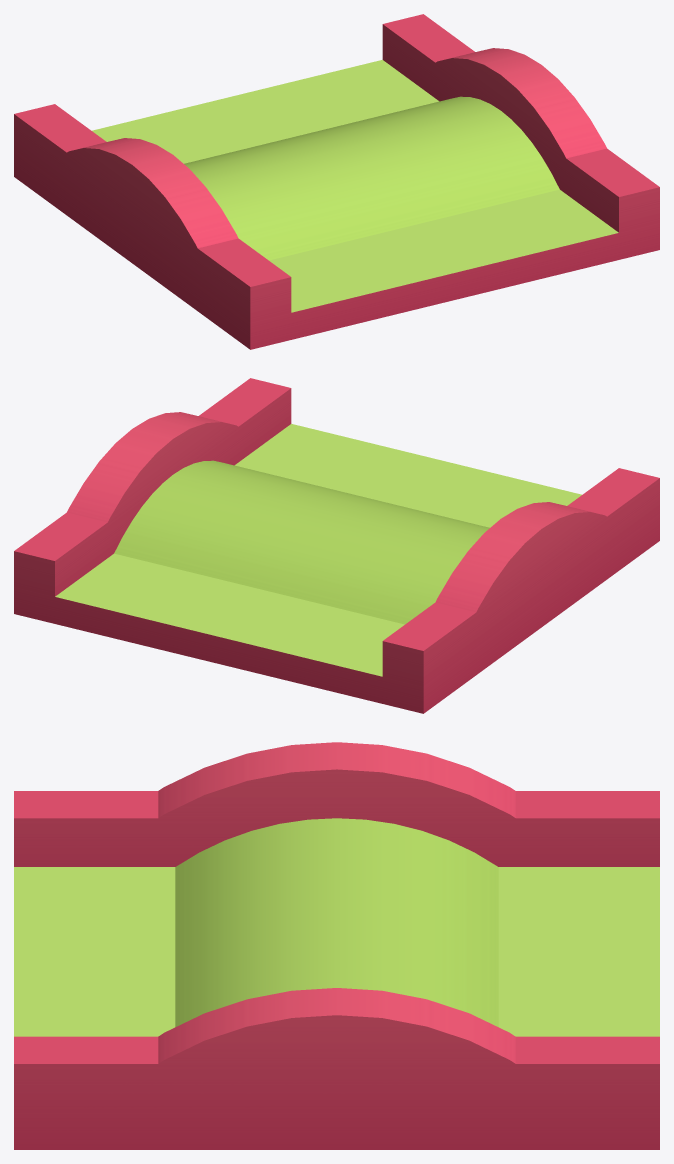
File: hill-round.gltf
3 renders of one model, top to bottom at view 1: azimuth 30°, elevation 25°; view 2: azimuth 150°, elevation 25°; view 3: azimuth 270°, elevation 25°, orthographic. The views are drawn at different scales.
Parts seen in each view (by area): view 1: hill-round; view 2: hill-round; view 3: hill-round.
Boxes of the visible parts, x1,y1,x2,y2 form: hill-round: (14,14,659,349); hill-round: (14,378,659,713); hill-round: (14,742,659,1149).
Size of the model in its own units: 0.9999 by 0.23 by 0.9999.
Materials: 1 (1 with a texture image).
